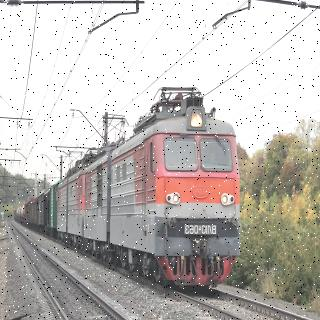poezd: (58, 89, 236, 273)
